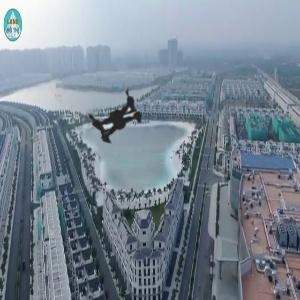drone: (42, 37, 207, 202)
